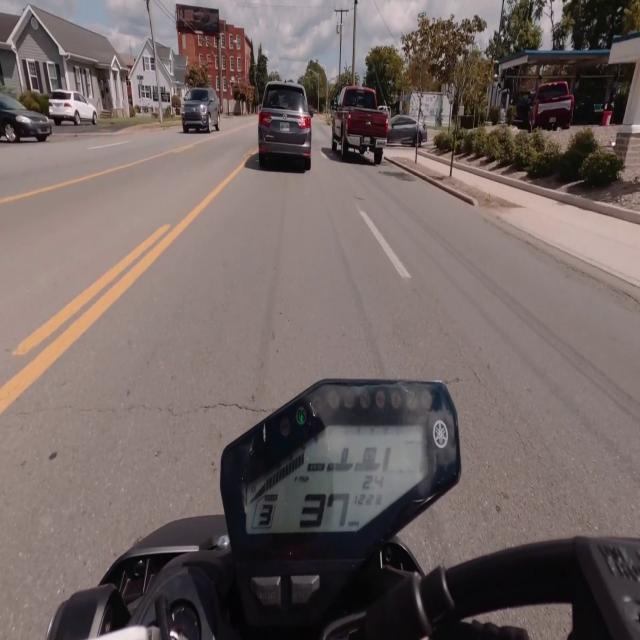car: (325, 86, 389, 164), (258, 82, 311, 170), (0, 94, 51, 142), (49, 91, 97, 125), (182, 88, 219, 132), (387, 115, 427, 146)
motorcycle: (47, 380, 639, 639)
